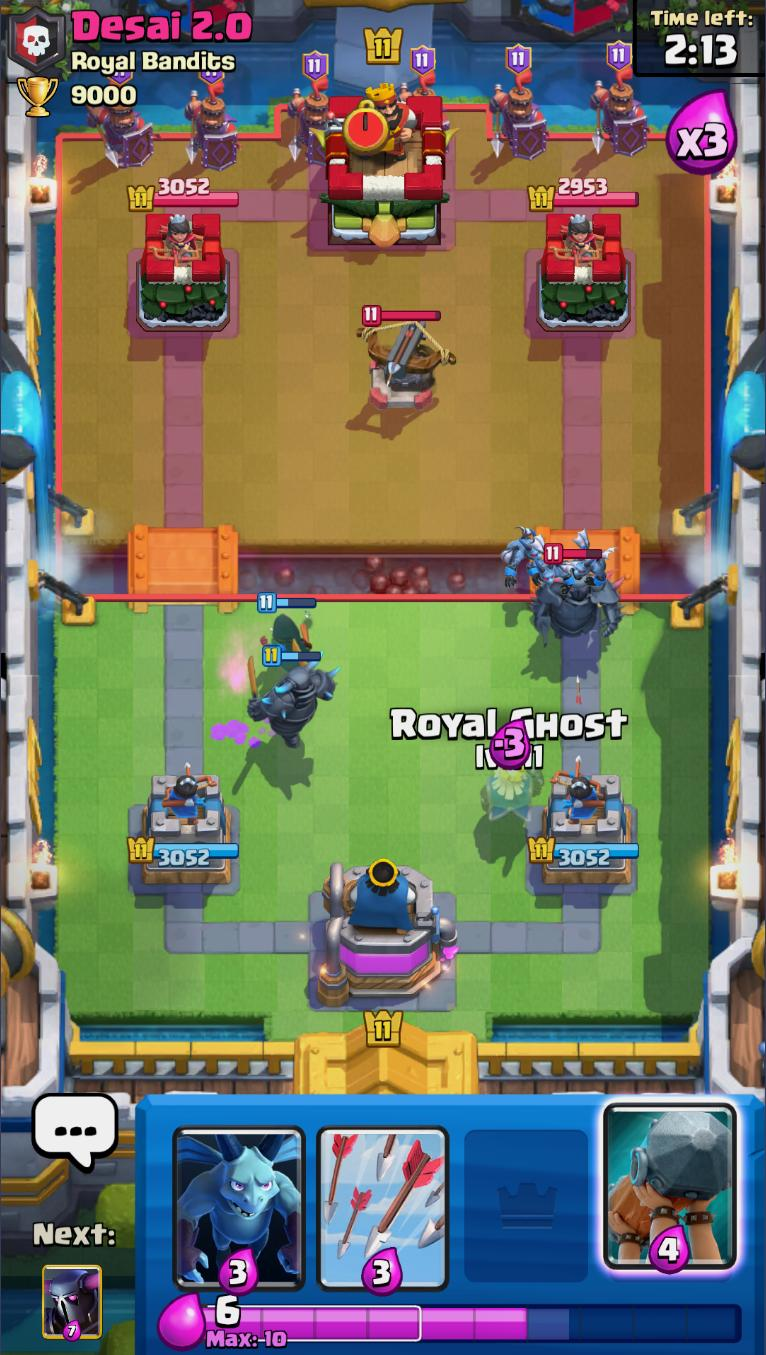ArrowDeck: (311, 1099, 454, 1296)
BattleRamDeck: (599, 1094, 741, 1296)
Elixir: (201, 1296, 741, 1351)
Empty: (456, 1096, 597, 1294)
EnemyTower: (136, 211, 234, 331), (538, 209, 632, 333), (129, 178, 239, 212), (529, 178, 640, 211)
EvoRoyalRecruit: (489, 43, 552, 161), (86, 65, 155, 169), (591, 39, 651, 157), (182, 68, 241, 172), (285, 49, 335, 165), (395, 45, 441, 104)
KingTower: (311, 79, 459, 246)
MinionsDeck: (164, 1096, 313, 1294)
MyBandit: (254, 592, 317, 671)
MyKingTower: (317, 860, 460, 1007)
MyMinion: (564, 534, 619, 587), (501, 526, 549, 584), (529, 541, 577, 594)
MyPekka: (246, 643, 340, 749)
MyPrincessTower: (129, 771, 240, 889), (531, 773, 639, 889)
MyPrincessTowerHP: (126, 836, 241, 867), (531, 835, 640, 866)
Pekka: (533, 546, 621, 649)
PekkaNext: (41, 1263, 103, 1343)
PrincessTower: (550, 211, 605, 264), (149, 213, 204, 264)
XBow: (354, 303, 457, 409)
